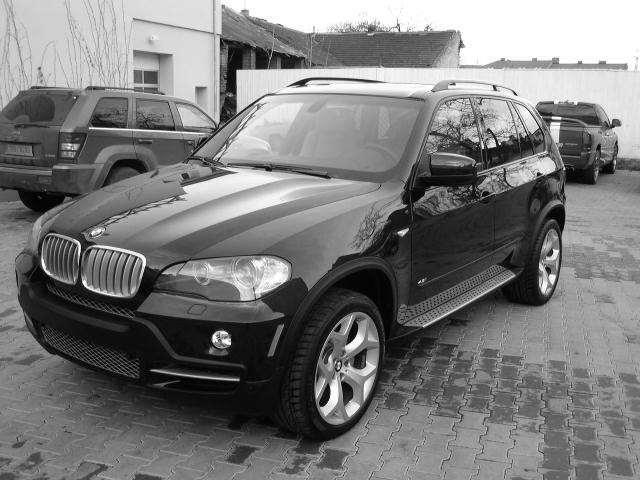car: (18, 77, 565, 439)
